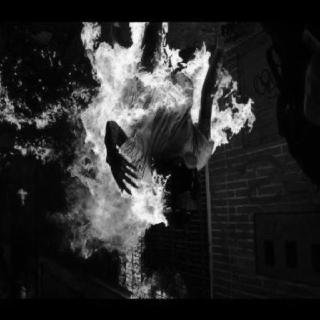Fire: (114, 250, 173, 302)
